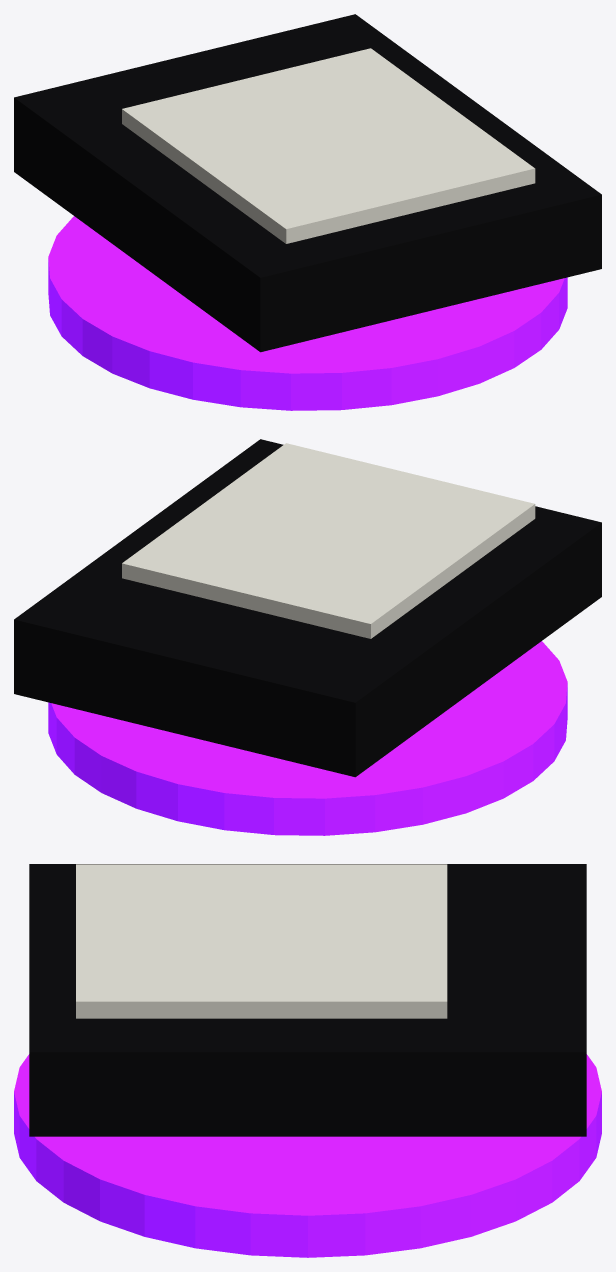
Rendered from modelling_portfolio_book.dae.
3 views of the same model, one above another, from view 1: azimuth 30°, elevation 25°; view 2: azimuth 150°, elevation 25°; view 3: azimuth 270°, elevation 25° (orthographic). The views are drawn at different scales.
Visible parts, largest first — view 1: 05_10_Popular_Modelling_Portfolio_Book_part_01, 05_10_Popular_Modelling_Portfolio_Book_part_02, 05_10_Popular_Modelling_Portfolio_Book_ROOT_base; view 2: 05_10_Popular_Modelling_Portfolio_Book_part_01, 05_10_Popular_Modelling_Portfolio_Book_part_02, 05_10_Popular_Modelling_Portfolio_Book_ROOT_base; view 3: 05_10_Popular_Modelling_Portfolio_Book_part_01, 05_10_Popular_Modelling_Portfolio_Book_ROOT_base, 05_10_Popular_Modelling_Portfolio_Book_part_02.
Part boxes in pixels (x1=…): 05_10_Popular_Modelling_Portfolio_Book_part_01: x1=14, y1=14, x2=601, y2=352; 05_10_Popular_Modelling_Portfolio_Book_part_02: x1=122, y1=48, x2=535, y2=243; 05_10_Popular_Modelling_Portfolio_Book_ROOT_base: x1=48, y1=216, x2=567, y2=410; 05_10_Popular_Modelling_Portfolio_Book_part_01: x1=14, y1=439, x2=601, y2=777; 05_10_Popular_Modelling_Portfolio_Book_part_02: x1=122, y1=443, x2=535, y2=638; 05_10_Popular_Modelling_Portfolio_Book_ROOT_base: x1=48, y1=641, x2=567, y2=835; 05_10_Popular_Modelling_Portfolio_Book_part_01: x1=29, y1=864, x2=586, y2=1136; 05_10_Popular_Modelling_Portfolio_Book_ROOT_base: x1=14, y1=1054, x2=601, y2=1257; 05_10_Popular_Modelling_Portfolio_Book_part_02: x1=76, y1=864, x2=447, y2=1018.
Bounding box in the file's own units: 0.76 × 0.286 × 0.76.
